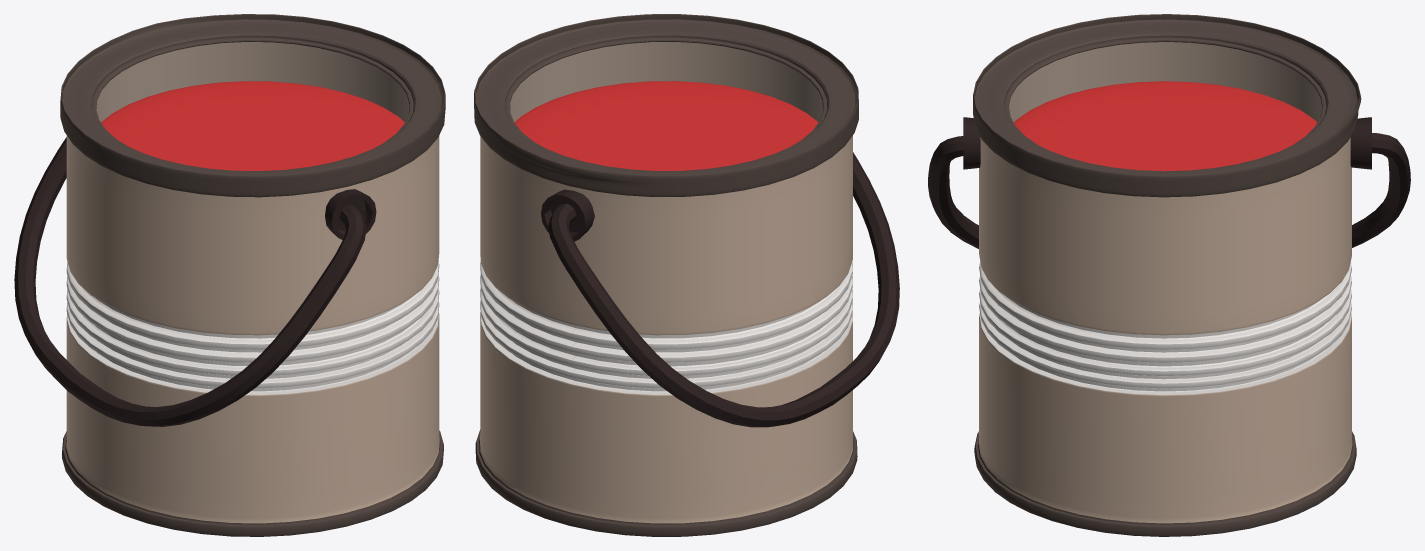
The model's file is Paint_Red.fbx.
3 renders of one model, left to right at view 1: azimuth 30°, elevation 25°; view 2: azimuth 150°, elevation 25°; view 3: azimuth 270°, elevation 25°, orthographic.
Parts seen in each view (by area): view 1: paint_body_handle, paint_red1; view 2: paint_body_handle, paint_red1; view 3: paint_body_handle, paint_red1.
Part boxes in pixels (x1,y1,x2,y2): paint_body_handle: [14, 14, 445, 536]; paint_red1: [101, 81, 404, 170]; paint_body_handle: [474, 14, 899, 536]; paint_red1: [514, 81, 818, 170]; paint_body_handle: [928, 14, 1410, 536]; paint_red1: [1014, 81, 1317, 171].
Bounding box in the file's own units: 2.12 × 2.11 × 2.56.
3 materials, 1 textured.
